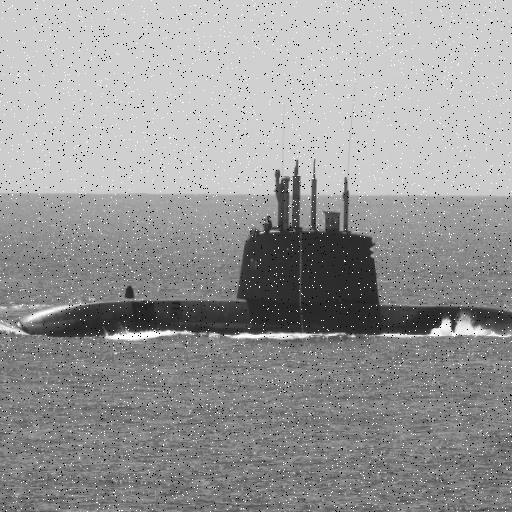submarine: (6, 167, 512, 342)
